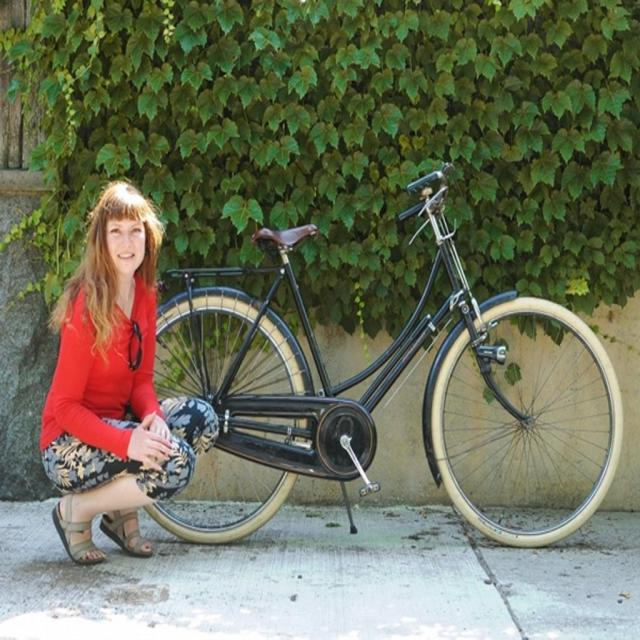nomask: (106, 192, 145, 276)
